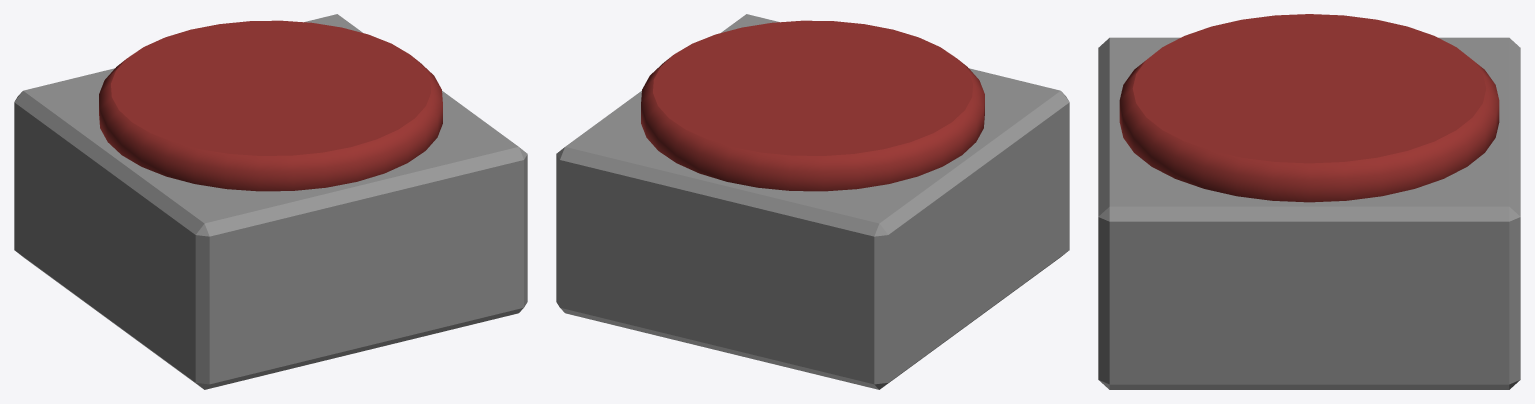
Rendered from button.fbx.
3 views of the same model, side by side, from view 1: azimuth 30°, elevation 25°; view 2: azimuth 150°, elevation 25°; view 3: azimuth 270°, elevation 25° (orthographic). The views are drawn at different scales.
Visible parts, largest first — view 1: Button; view 2: Button; view 3: Button.
Part boxes in pixels (<box>): Button: <box>14,14,527,389</box>; Button: <box>556,14,1069,389</box>; Button: <box>1098,14,1520,389</box>.
Size of the model in its own units: 100 by 56.63 by 100.
